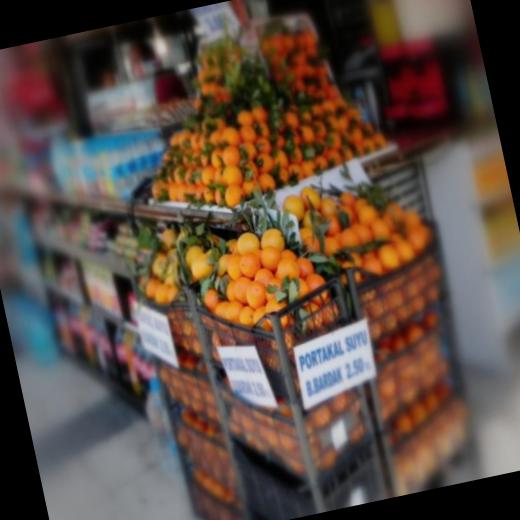Grape: (296, 252, 317, 282)
